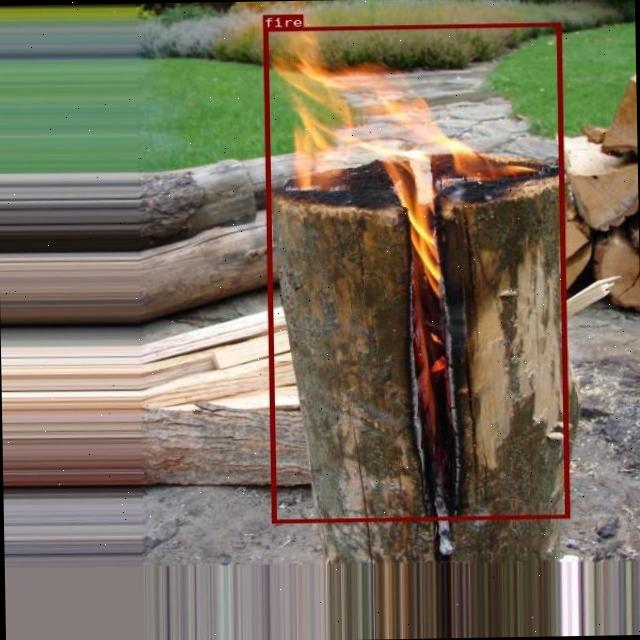fire: (262, 22, 568, 522)
